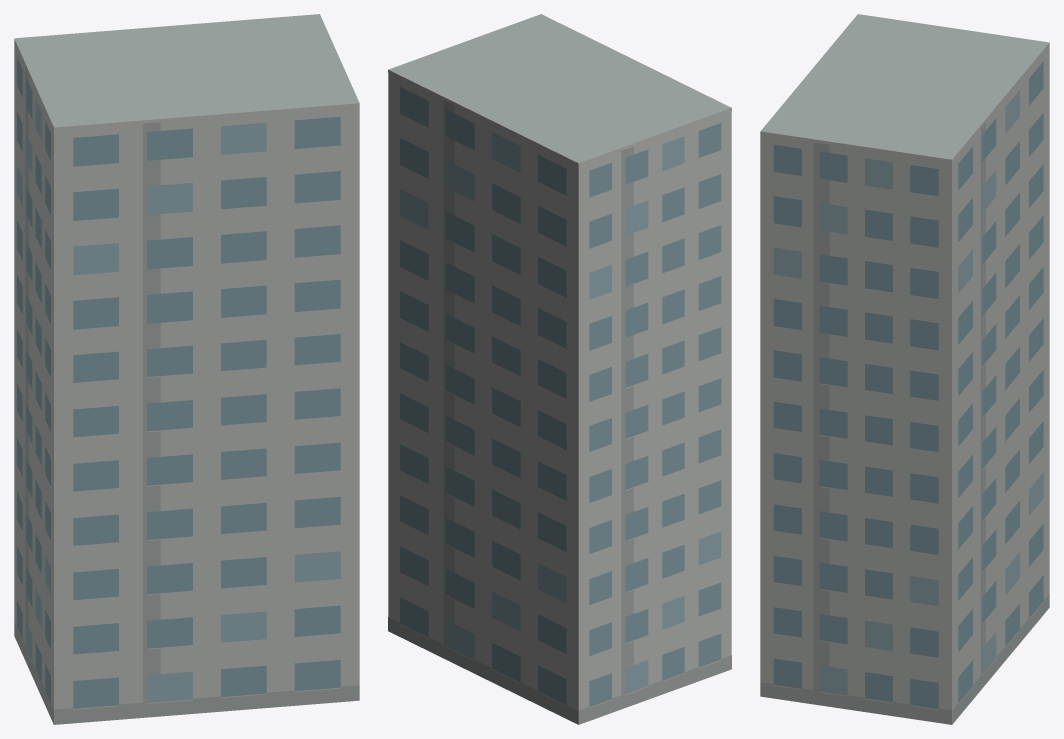
The model's file is residential-17f53840-9114-4307-b2a7-597ad8f04932.glb.
3 views of the same model, side by side, from view 1: azimuth 30°, elevation 25°; view 2: azimuth 150°, elevation 25°; view 3: azimuth 270°, elevation 25° (orthographic). The views are drawn at different scales.
Parts seen in each view (by area): view 1: residential-17f53840-9114-4307-b2a7-597ad8f04932.tmp; view 2: residential-17f53840-9114-4307-b2a7-597ad8f04932.tmp; view 3: residential-17f53840-9114-4307-b2a7-597ad8f04932.tmp.
Boxes of the visible parts, x1,y1,x2,y2 form: residential-17f53840-9114-4307-b2a7-597ad8f04932.tmp: (14,14,359,724); residential-17f53840-9114-4307-b2a7-597ad8f04932.tmp: (388,14,731,724); residential-17f53840-9114-4307-b2a7-597ad8f04932.tmp: (760,14,1049,724).
Bounding box in the file's own units: 24.35 × 44 × 20.42.
